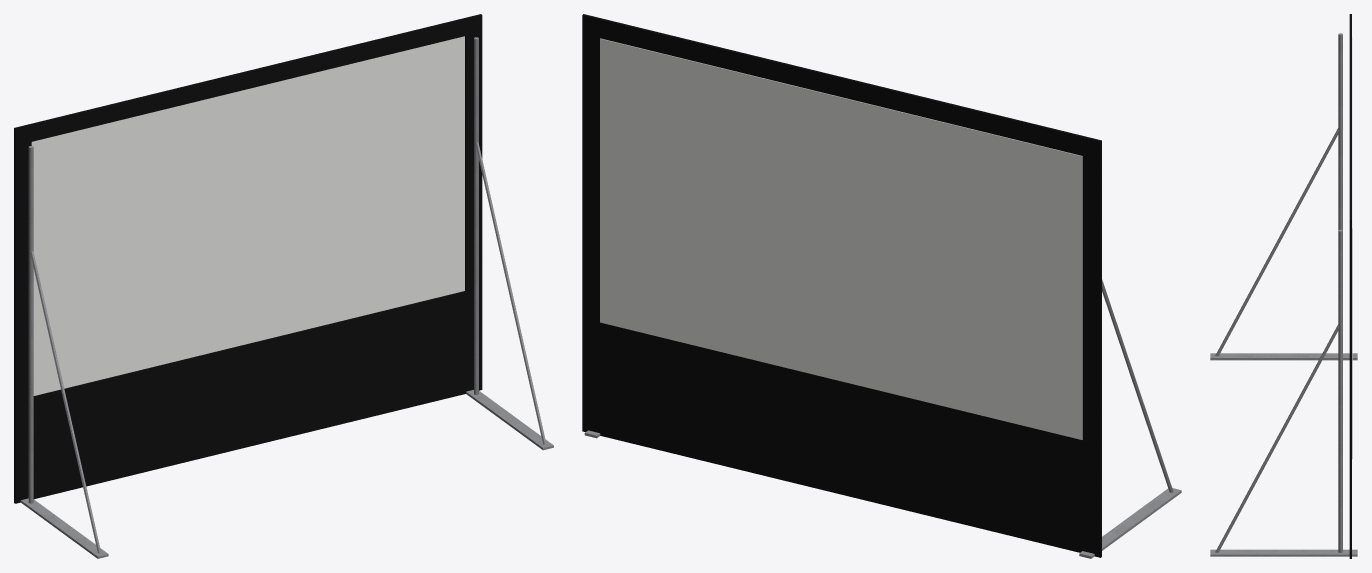
File: screen_fastfold_16x9.gltf
The picture shows the model from 3 angles, left to right: view 1: azimuth 30°, elevation 25°; view 2: azimuth 150°, elevation 25°; view 3: azimuth 270°, elevation 25°; orthographic projection. The views are drawn at different scales.
Visible parts, largest first — view 1: screen_fastfold_16x9; view 2: screen_fastfold_16x9; view 3: screen_fastfold_16x9.
Boxes of the visible parts, <box> form: screen_fastfold_16x9: <box>14,14,553,558</box>; screen_fastfold_16x9: <box>582,14,1181,558</box>; screen_fastfold_16x9: <box>1210,14,1357,558</box>.
Bounding box in the file's own units: 4.3 × 3.31 × 1.3.
Materials: 3 (2 with a texture image).
